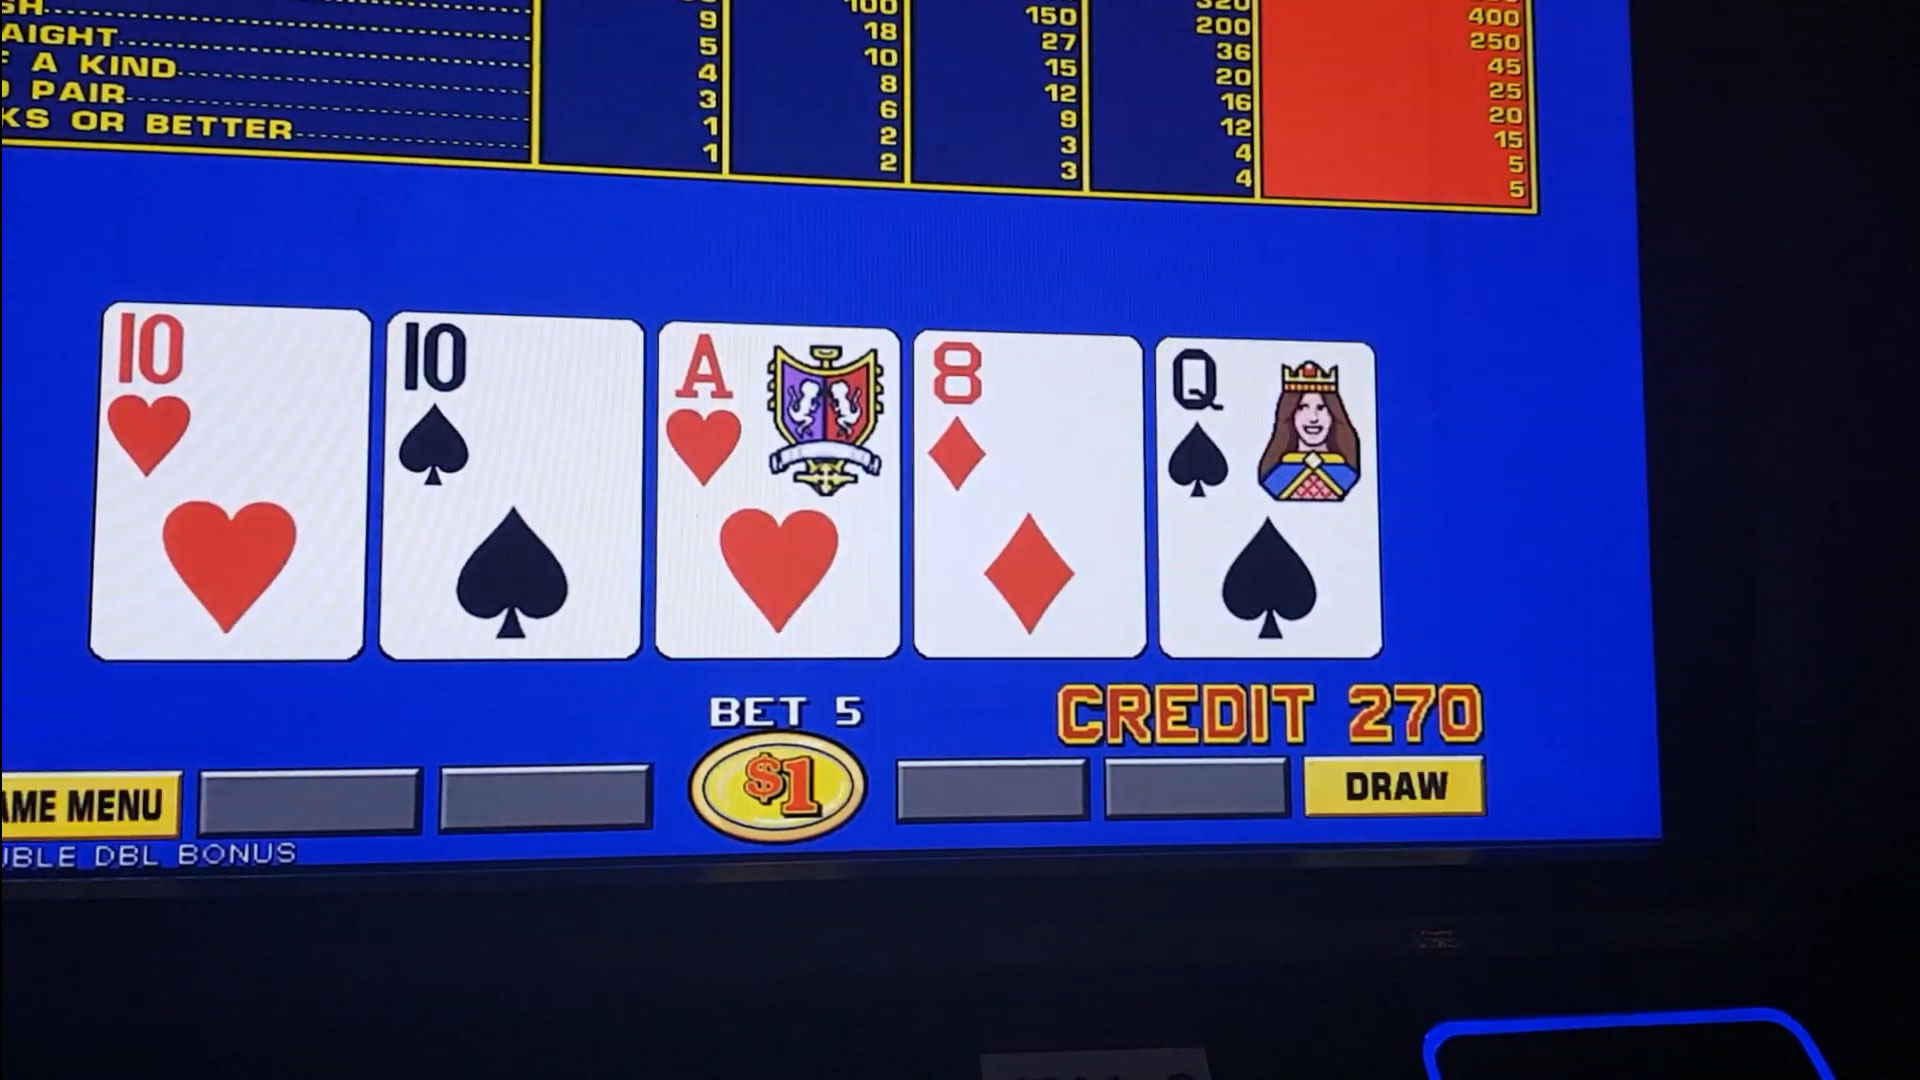D8: (923, 336, 1138, 506)
HA: (669, 326, 891, 505)
HT: (112, 313, 369, 495)
SQ: (1164, 343, 1367, 514)
ST: (385, 316, 632, 502)
